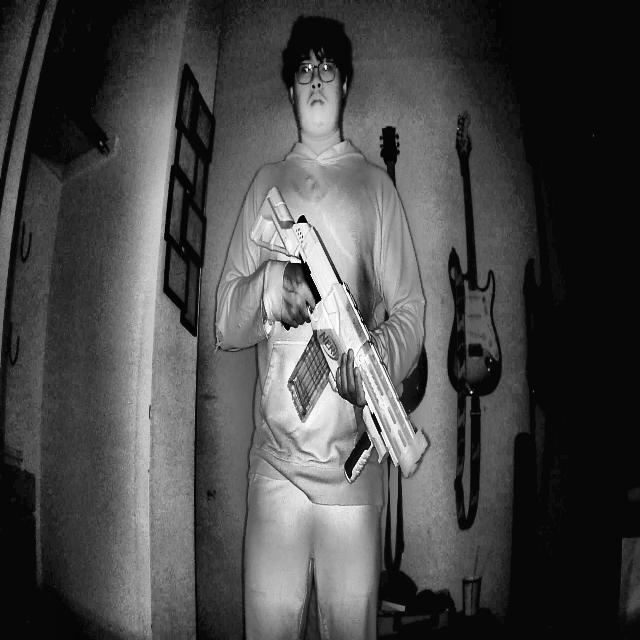Nerf_Blaster: (247, 162, 432, 520)
